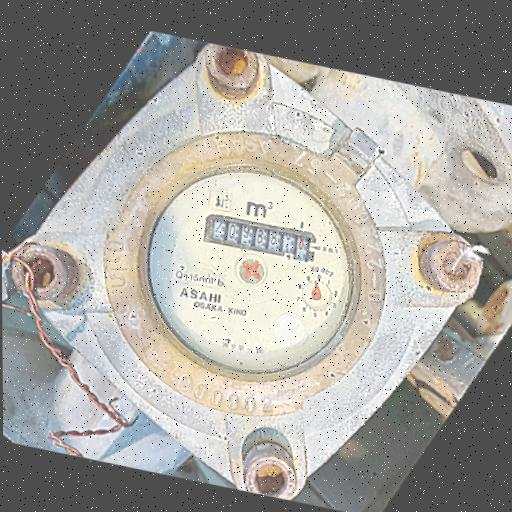0: (282, 231, 295, 253), (227, 221, 240, 242)
2: (212, 218, 227, 240)
8: (295, 235, 307, 261), (254, 225, 267, 247), (268, 228, 281, 250)
9: (241, 223, 253, 245)
border_water_meter_number: (202, 210, 319, 265)
